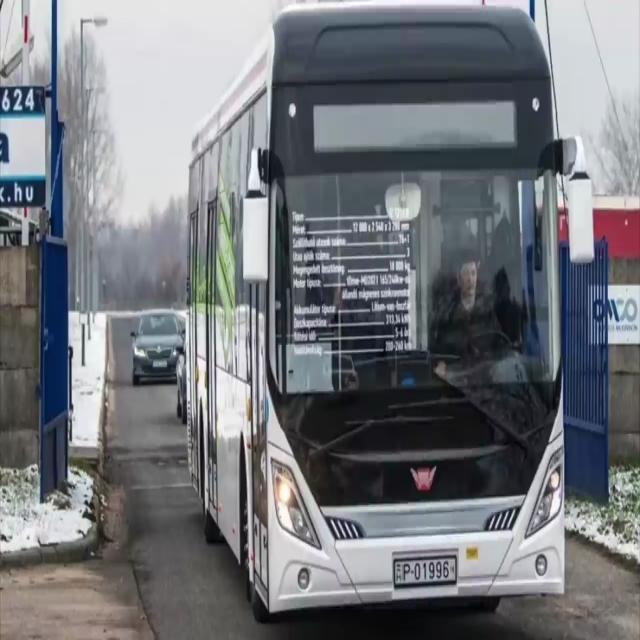bus: (182, 4, 595, 624)
